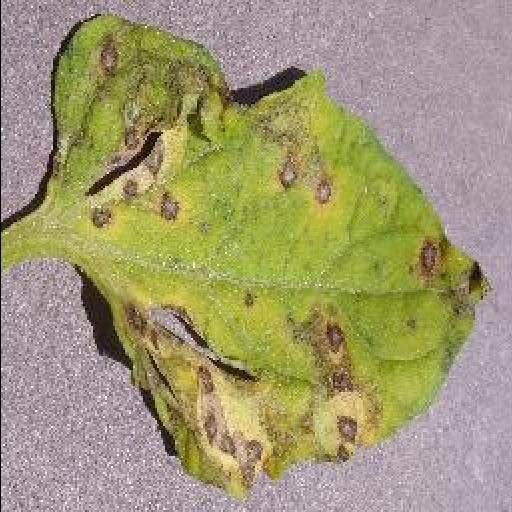disease_tomato: (52, 12, 492, 490)
